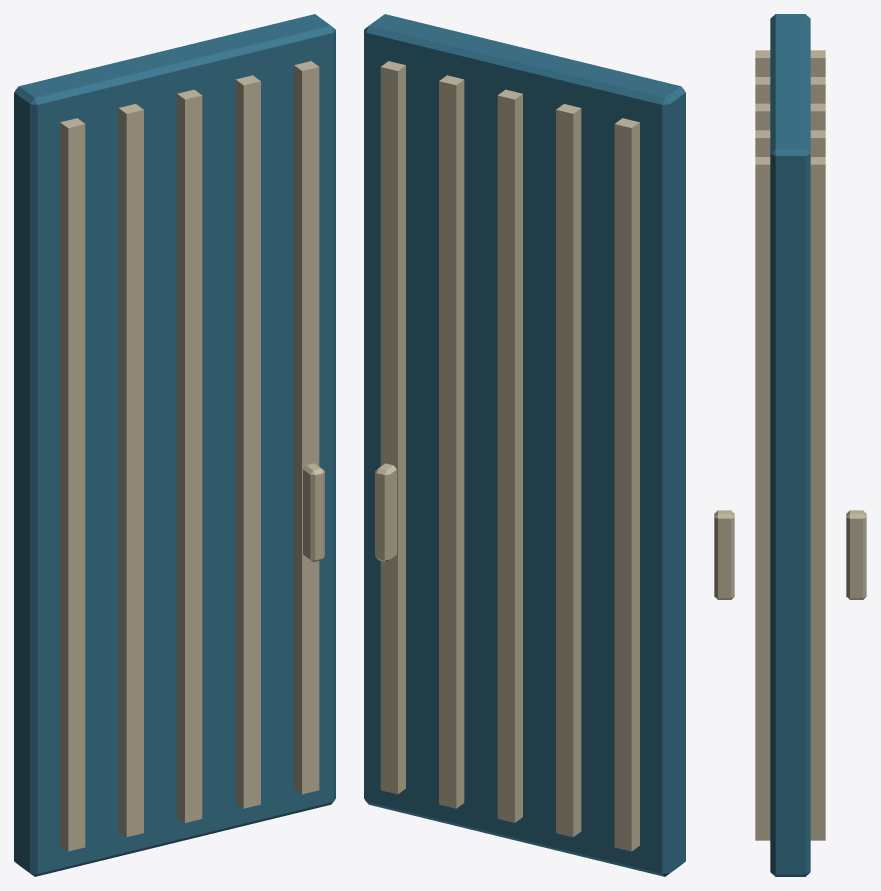
File: door_garage_fold.glb
3 renders of one model, left to right at view 1: azimuth 30°, elevation 25°; view 2: azimuth 150°, elevation 25°; view 3: azimuth 270°, elevation 25°, orthographic. The views are drawn at different scales.
Parts seen in each view (by area): view 1: door_garage_fold; view 2: door_garage_fold; view 3: door_garage_fold.
Part boxes in pixels (x1,y1,x2,y2): door_garage_fold: (14,14,335,876); door_garage_fold: (364,14,685,876); door_garage_fold: (714,14,866,876).
Size of the model in its own units: 1.15 by 2.8 by 0.53.
